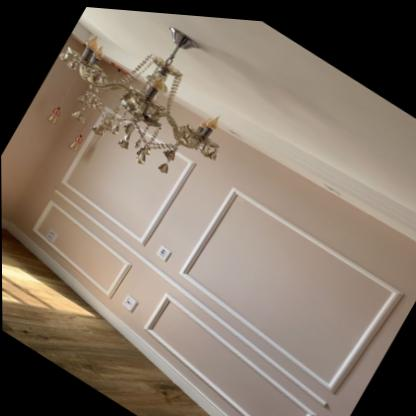Futec frame: (141, 172, 407, 416), (10, 84, 201, 309)
